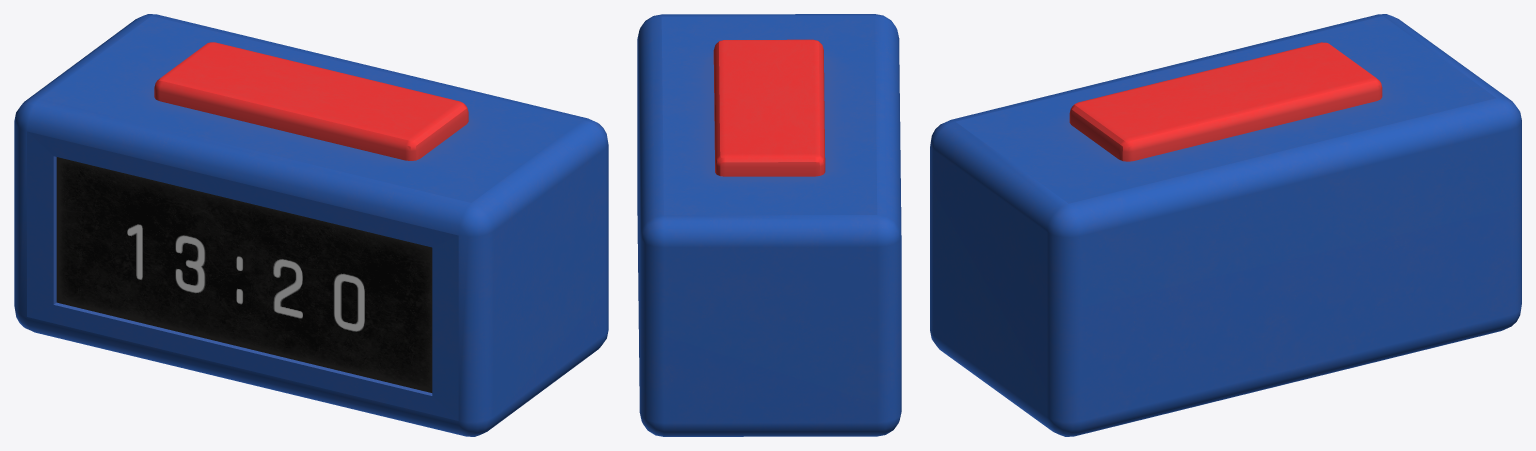
Rendered from clock_M.fbx.
3 renders of one model, left to right at view 1: azimuth 30°, elevation 25°; view 2: azimuth 150°, elevation 25°; view 3: azimuth 270°, elevation 25°, orthographic. The views are drawn at different scales.
Visible parts, largest first — view 1: pCube9; view 2: pCube9; view 3: pCube9.
Part boxes in pixels (box(x1,y1,x2,y2)): pCube9: box(14, 14, 608, 436); pCube9: box(637, 14, 901, 436); pCube9: box(930, 14, 1521, 436).
Bounding box in the file's own units: 0.0573 × 0.0321 × 0.0686.
